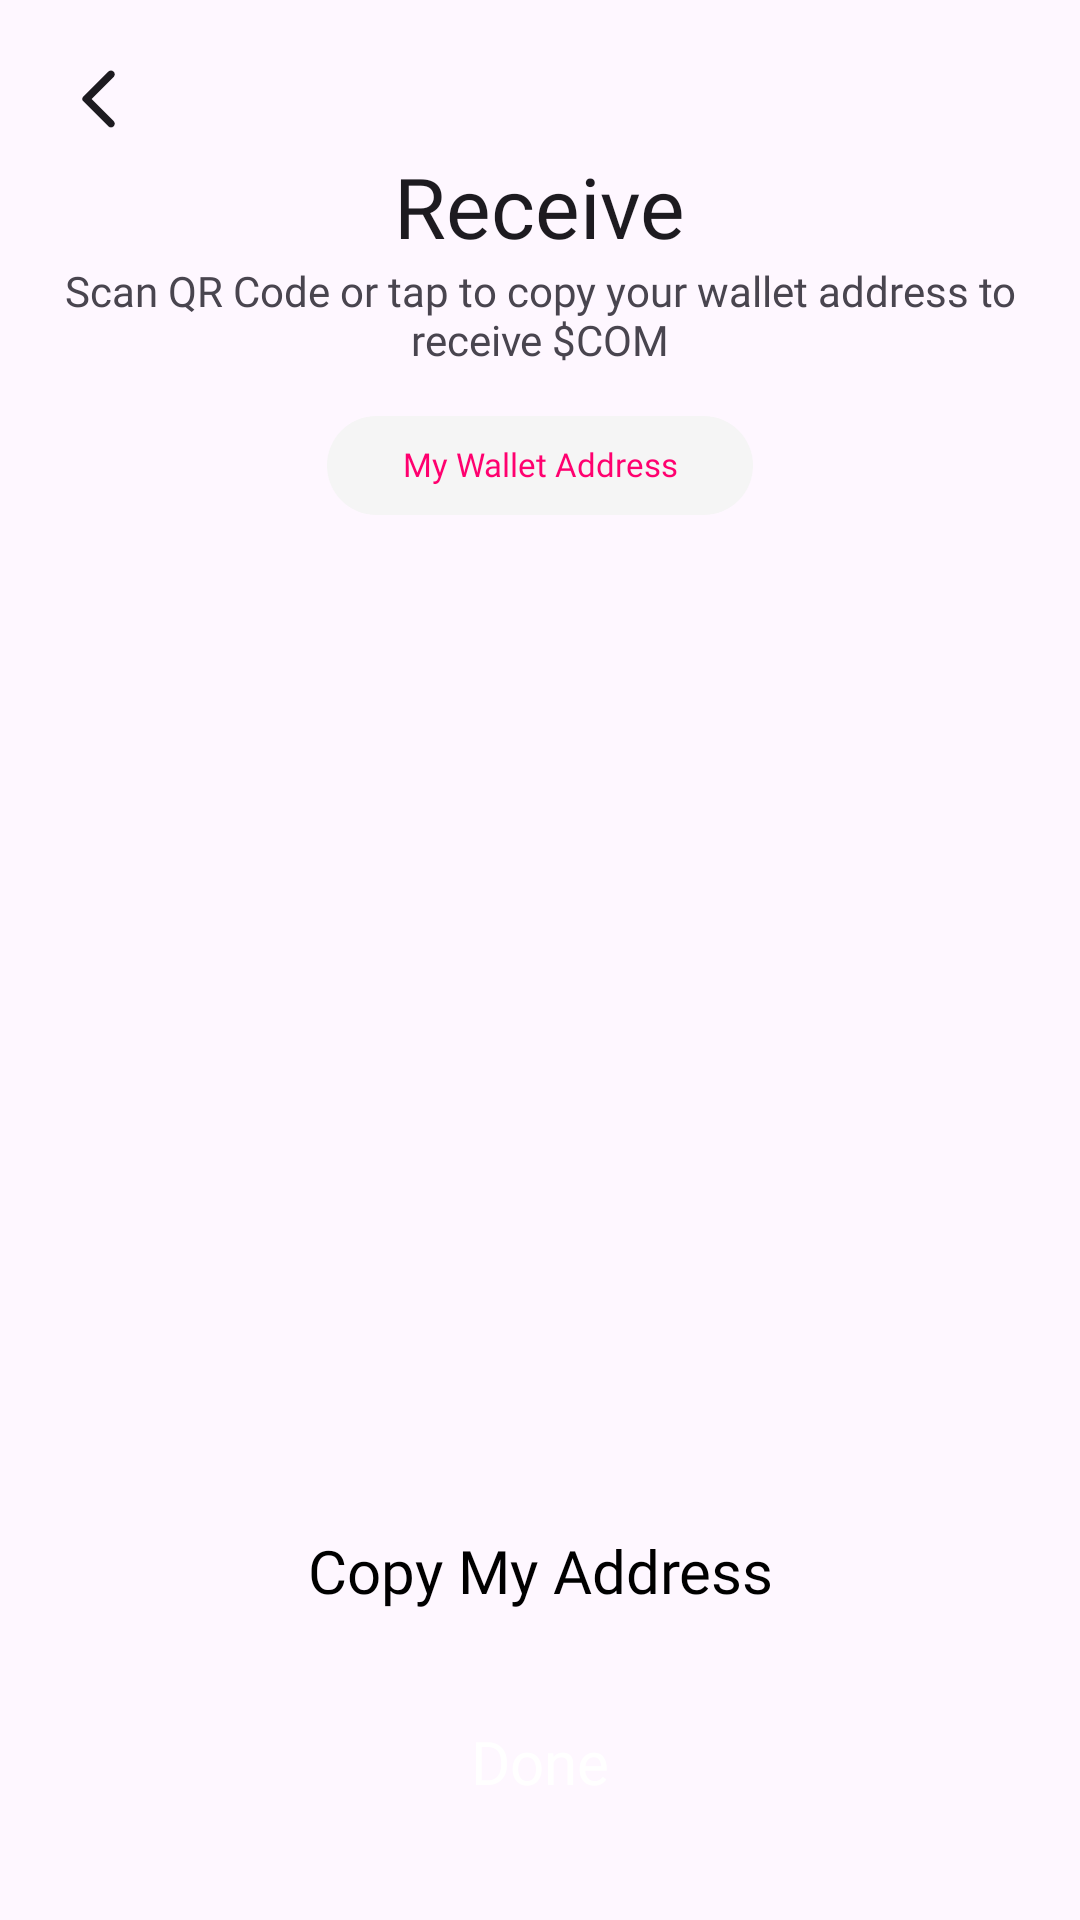

Screen size 1080*1920. Icon name, then its center in pixels as (x=x, y=y):
arrow back: (x=98, y=99)
